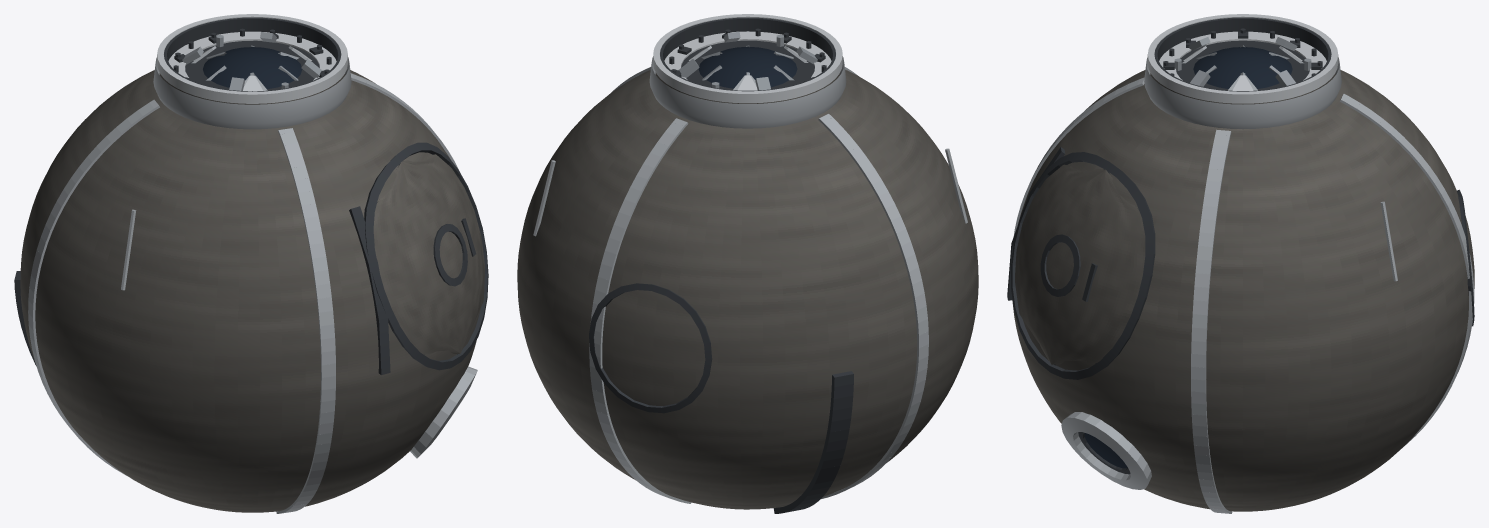
File: capsule_vostok.glb
The picture shows the model from 3 angles, left to right: view 1: azimuth 30°, elevation 25°; view 2: azimuth 150°, elevation 25°; view 3: azimuth 270°, elevation 25°; orthographic projection.
Parts seen in each view (by area): view 1: body, slot_windows__cupola, slot_docking__cbm; view 2: body, slot_windows__cupola, slot_docking__cbm; view 3: body, slot_windows__cupola, slot_docking__cbm.
Part boxes in pixels (bbox=[...]): body: bbox=[14, 14, 488, 513]; slot_windows__cupola: bbox=[203, 45, 302, 89]; slot_docking__cbm: bbox=[168, 28, 336, 90]; body: bbox=[517, 14, 978, 513]; slot_windows__cupola: bbox=[698, 45, 797, 88]; slot_docking__cbm: bbox=[664, 28, 831, 90]; body: bbox=[1007, 14, 1474, 513]; slot_windows__cupola: bbox=[1193, 45, 1292, 88]; slot_docking__cbm: bbox=[1159, 28, 1326, 86].
Size of the model in its own units: 2.25 by 2.28 by 2.27.
17 materials, 1 textured.
